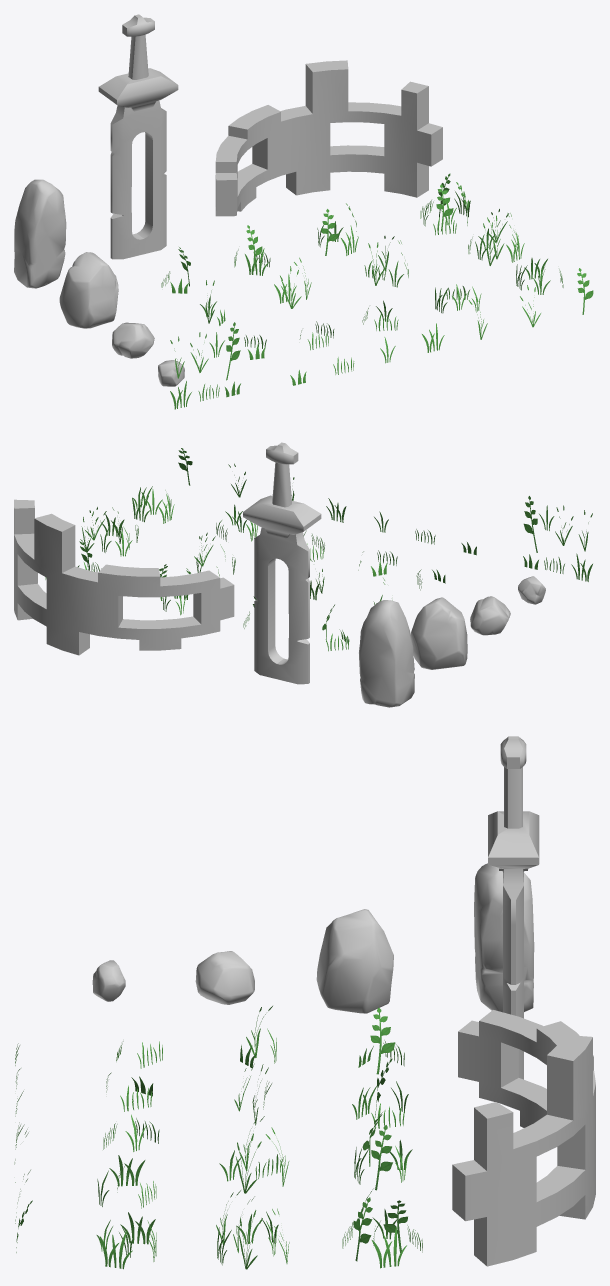
The model's file is ancientRuins_edit_for_FBX.fbx.
The picture shows the model from 3 angles, top to bottom: view 1: azimuth 30°, elevation 25°; view 2: azimuth 150°, elevation 25°; view 3: azimuth 270°, elevation 25°; orthographic projection. The views are drawn at different scales.
Parts seen in each view (by area): view 1: AncientRuins_Shell, AncientRuins_Sword, AncientRuins_Rock4, AncientRuins_Rock3, AncientRuins_Rock2, AncientRuins_PlantsPlane, AncientRuins_Plants20, AncientRuins_Plants16, AncientRuins_Plants19, AncientRuins_Rock1, AncientRuins_Plants18; view 2: AncientRuins_Shell, AncientRuins_Sword, AncientRuins_Rock4, AncientRuins_Rock3, AncientRuins_Rock2, AncientRuins_PlantsPlane, AncientRuins_Plants16, AncientRuins_Plants12, AncientRuins_Rock1, AncientRuins_Plants11; view 3: AncientRuins_Shell, AncientRuins_Sword, AncientRuins_Rock3, AncientRuins_Rock4, AncientRuins_Rock2, AncientRuins_Plants20, AncientRuins_Plants16, AncientRuins_Plants19, AncientRuins_Plants12, AncientRuins_Rock1, AncientRuins_Plants15, AncientRuins_Plants18 (+2 smaller).
Boxes of the visible parts, x1=… form: AncientRuins_Shell: x1=215, y1=60, x2=442, y2=216; AncientRuins_Sword: x1=98, y1=14, x2=178, y2=259; AncientRuins_Rock4: x1=14, y1=179, x2=66, y2=288; AncientRuins_Rock3: x1=59, y1=252, x2=118, y2=328; AncientRuins_Rock2: x1=112, y1=322, x2=154, y2=358; AncientRuins_PlantsPlane: x1=170, y1=322, x2=240, y2=409; AncientRuins_Plants20: x1=420, y1=173, x2=470, y2=235; AncientRuins_Plants16: x1=468, y1=209, x2=524, y2=265; AncientRuins_Plants19: x1=317, y1=203, x2=358, y2=255; AncientRuins_Rock1: x1=158, y1=360, x2=184, y2=386; AncientRuins_Plants18: x1=234, y1=225, x2=270, y2=275; AncientRuins_Shell: x1=14, y1=499, x2=234, y2=655; AncientRuins_Sword: x1=243, y1=442, x2=321, y2=684; AncientRuins_Rock4: x1=359, y1=600, x2=414, y2=707; AncientRuins_Rock3: x1=411, y1=597, x2=467, y2=669; AncientRuins_Rock2: x1=470, y1=596, x2=510, y2=635; AncientRuins_PlantsPlane: x1=523, y1=496, x2=592, y2=581; AncientRuins_Plants16: x1=81, y1=507, x2=138, y2=556; AncientRuins_Plants12: x1=132, y1=486, x2=174, y2=523; AncientRuins_Rock1: x1=518, y1=576, x2=545, y2=604; AncientRuins_Plants11: x1=216, y1=504, x2=257, y2=541; AncientRuins_Shell: x1=452, y1=1010, x2=595, y2=1266; AncientRuins_Sword: x1=488, y1=736, x2=539, y2=1079; AncientRuins_Rock3: x1=316, y1=909, x2=393, y2=1013; AncientRuins_Rock4: x1=474, y1=863, x2=534, y2=1012; AncientRuins_Rock2: x1=195, y1=951, x2=254, y2=1004; AncientRuins_Plants20: x1=342, y1=1188, x2=422, y2=1268; AncientRuins_Plants16: x1=216, y1=1190, x2=289, y2=1269; AncientRuins_Plants19: x1=354, y1=1112, x2=412, y2=1190; AncientRuins_Plants12: x1=96, y1=1212, x2=156, y2=1269; AncientRuins_Rock1: x1=92, y1=960, x2=125, y2=1001; AncientRuins_Plants15: x1=219, y1=1116, x2=289, y2=1193; AncientRuins_Plants18: x1=352, y1=1058, x2=408, y2=1128.
Size of the model in its own units: 1135 by 588 by 927.
